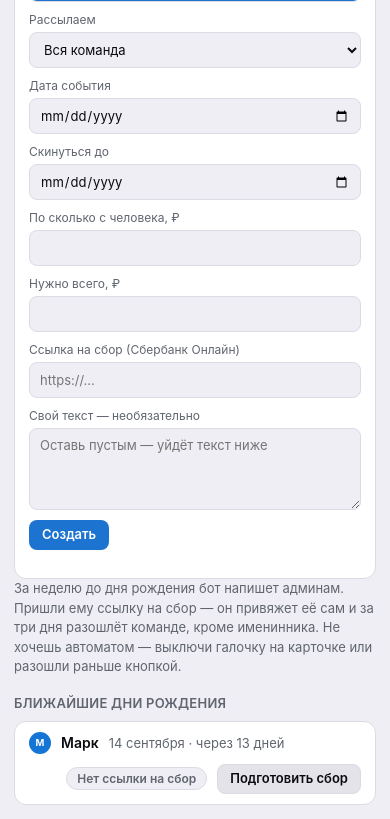
«Напомнить мне» у раунда дня рождения (консоль) › сохранённая дата подставляется в поле
(page scrolled)
Click the button "Подготовить сбор": (289, 778) [217, 764, 361, 794]
(page scrolled)
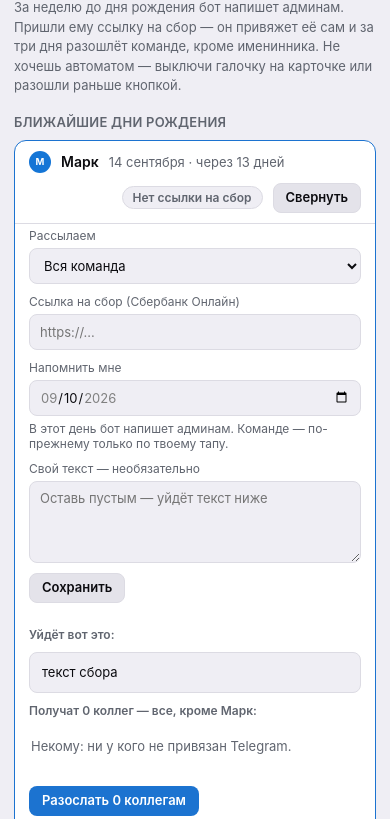
expect the date field named "Дата напоминания о сборе" holds "2026-09-10": met, box [29, 380, 361, 416]
